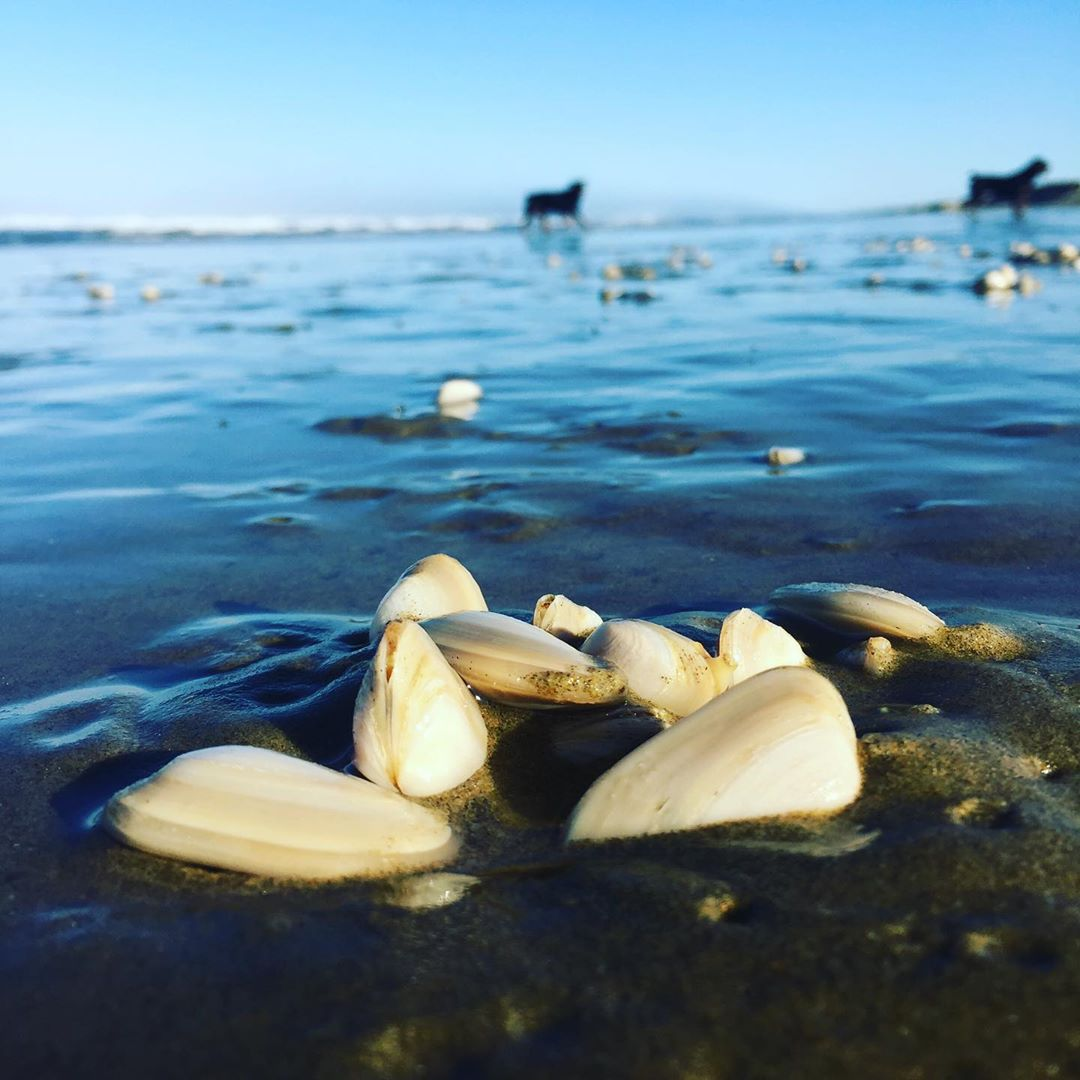tuatua: (547, 660, 867, 849), (97, 737, 469, 889), (345, 618, 493, 794), (418, 605, 632, 716), (577, 612, 721, 715), (766, 574, 953, 650)
